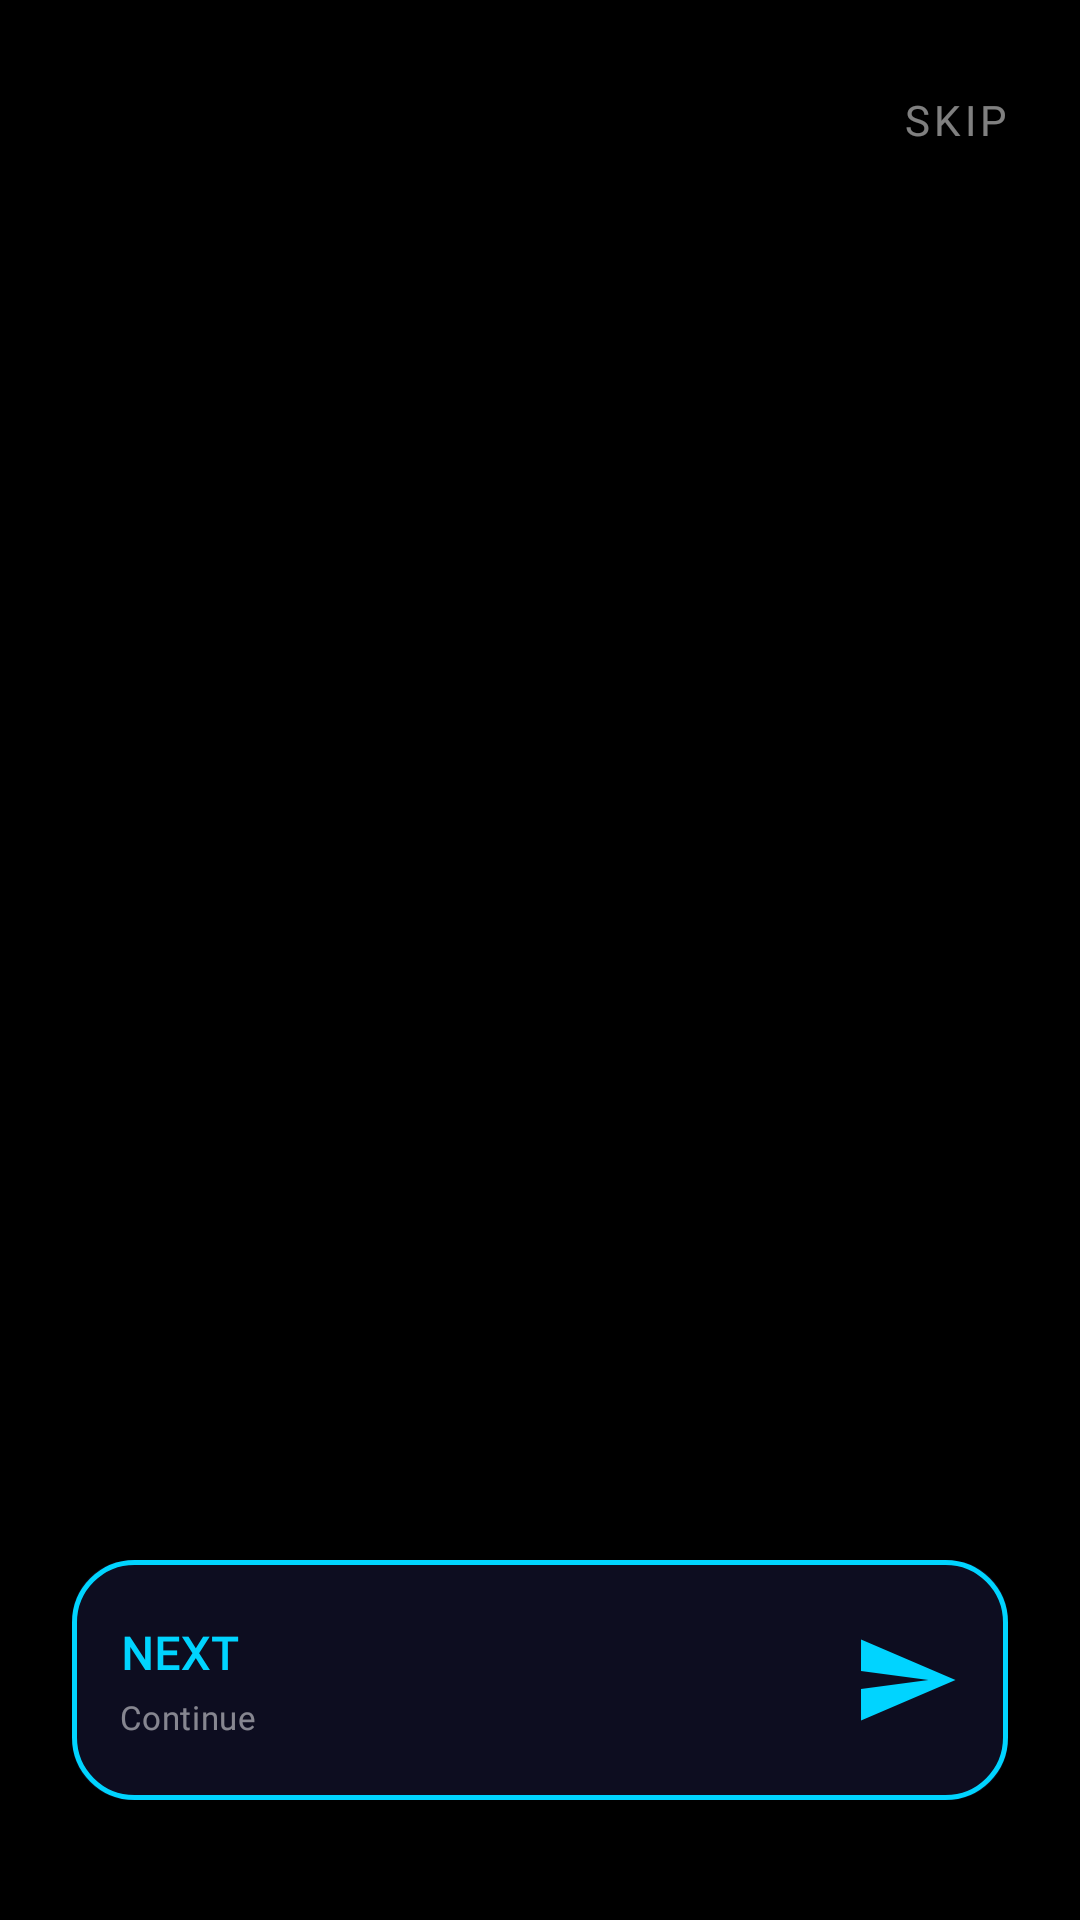

Icon bounding boxes for this 1080 × 1920 phone screenshot, format [x1=x1, y1=y1, x2=x2, y2=y2]:
send arrow: [x1=861, y1=1639, x2=955, y2=1721]
